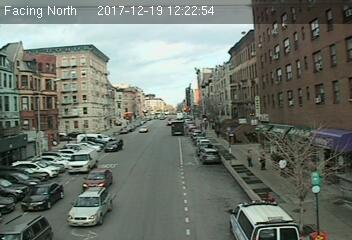car: (68, 188, 113, 229), (21, 184, 63, 212), (82, 169, 112, 189), (200, 147, 220, 163), (105, 139, 124, 153)
pedestrian: (246, 149, 254, 170), (259, 152, 266, 172)
police: (226, 195, 302, 240)
truck: (66, 148, 97, 172)
ups: (169, 120, 186, 137)
